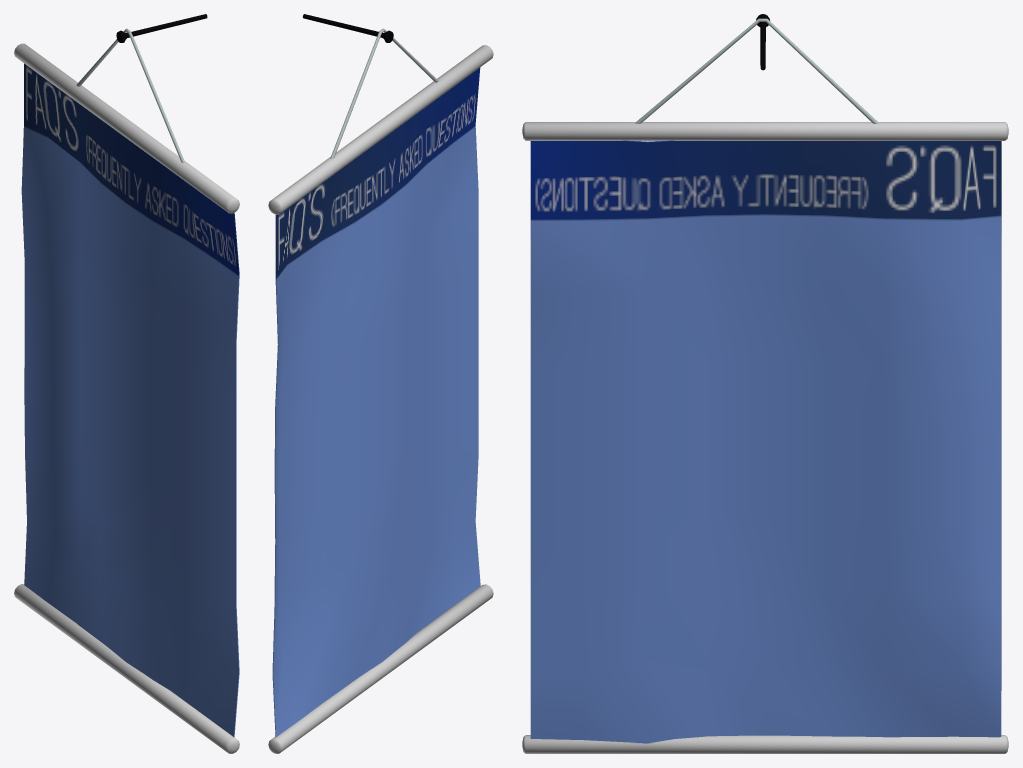
The model's file is Poster06_3.FBX.
The picture shows the model from 3 angles, left to right: view 1: azimuth 30°, elevation 25°; view 2: azimuth 150°, elevation 25°; view 3: azimuth 270°, elevation 25°; orthographic projection. The views are drawn at different scales.
Parts seen in each view (by area): view 1: Poster06_3; view 2: Poster06_3; view 3: Poster06_3.
Part boxes in pixels (box(x1,y1,x2,y2)): Poster06_3: box(14, 14, 239, 753); Poster06_3: box(268, 14, 493, 753); Poster06_3: box(522, 14, 1008, 753).
Size of the model in its own units: 7.09 by 50.4 by 30.21.
